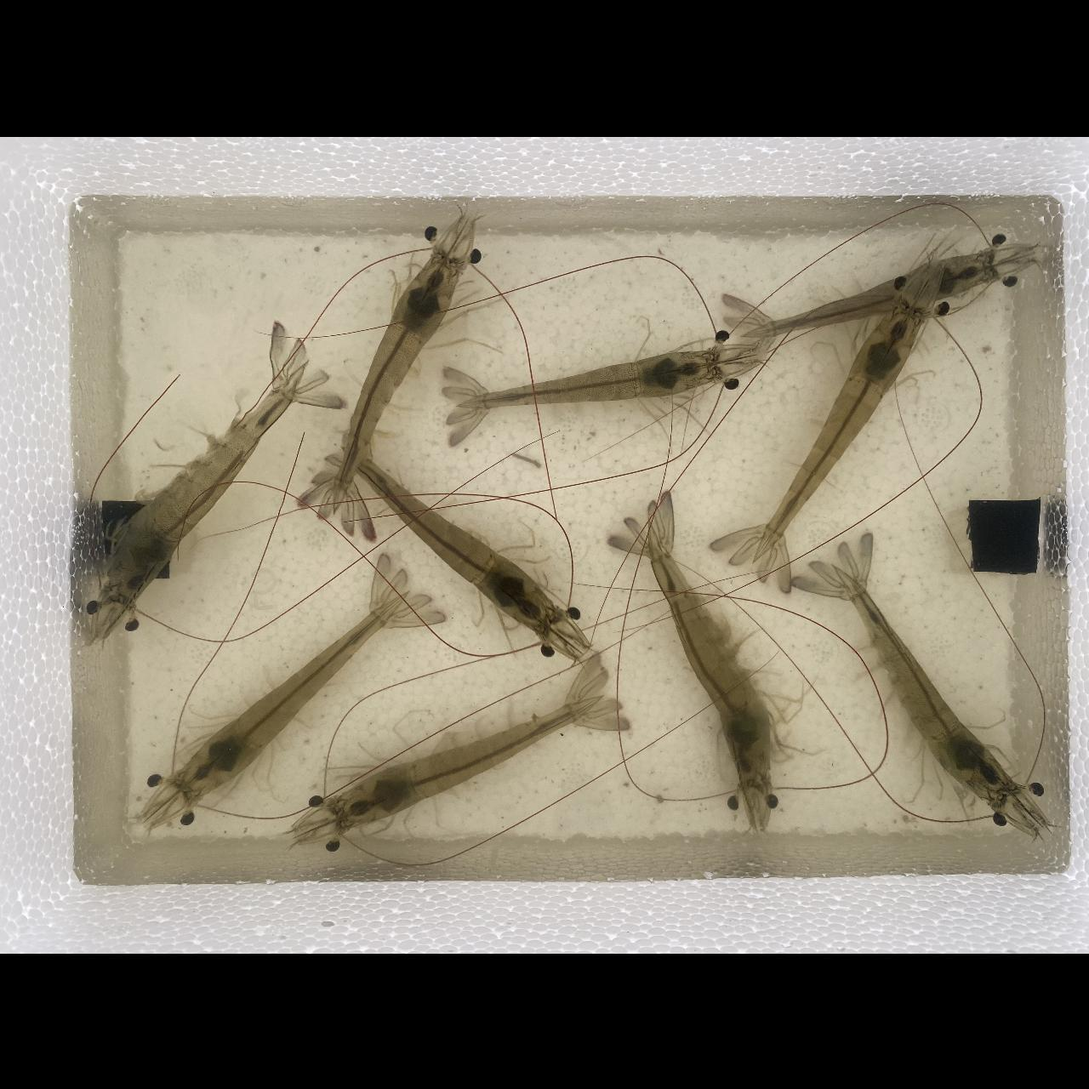box: (100, 500, 172, 579), (970, 499, 1040, 573)
top_shrimp: (109, 369, 303, 606), (179, 594, 403, 796), (837, 568, 1009, 801), (340, 447, 551, 625), (762, 310, 919, 546), (337, 698, 596, 827), (645, 531, 769, 786), (643, 533, 767, 786), (334, 259, 456, 493), (749, 254, 990, 337), (461, 351, 713, 407)
